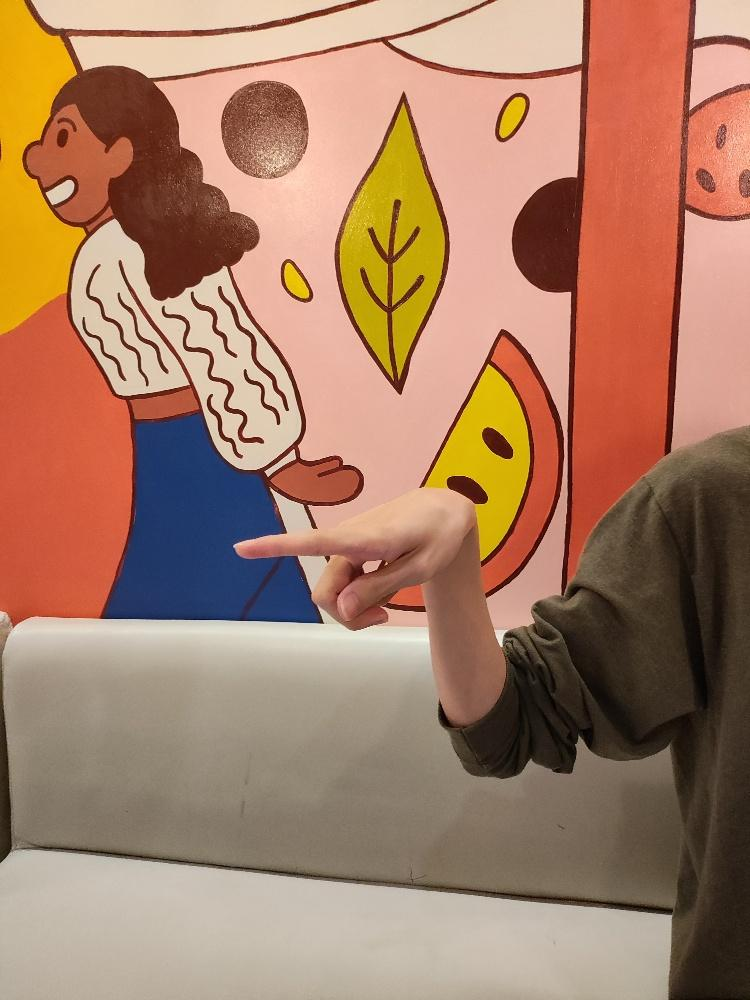z: (230, 483, 479, 632)
